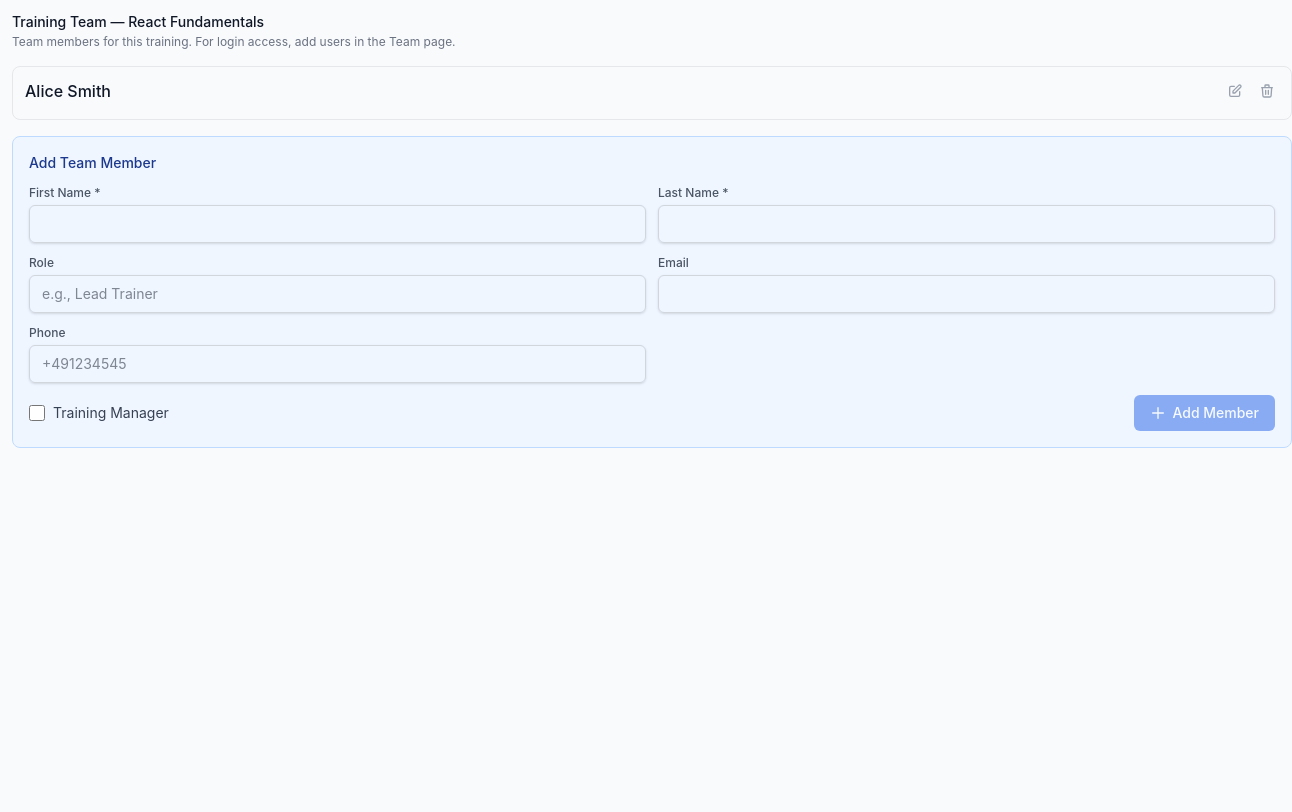
TrainingTeamTab › edit team member › closes edit form when Cancel is clicked
The image size is (1292, 812).
Click the button titled "Edit".
click(1235, 91)  # box [1223,79,1247,103]
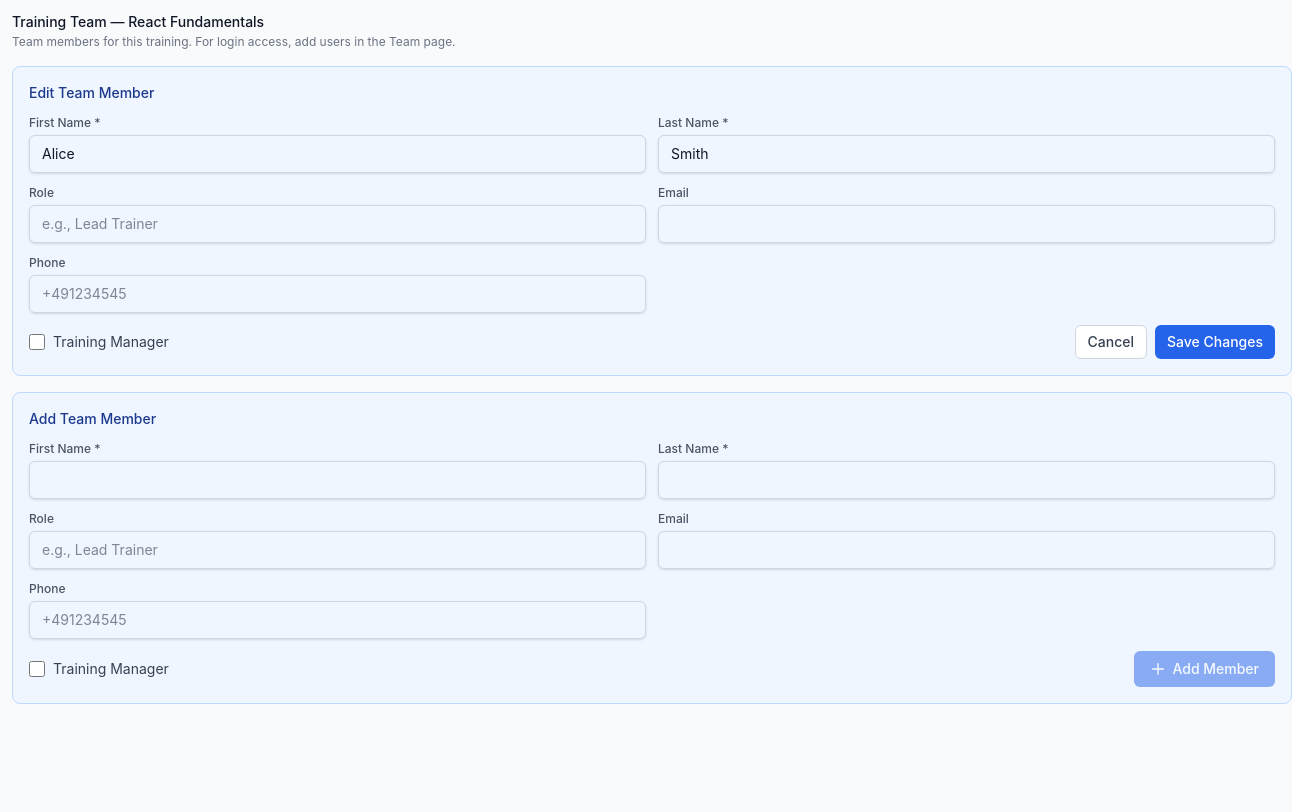
Now the heading "Edit Team Member" is shown, box [29,84,154,101]
Click the button "Cancel".
click(1111, 342)  # box [1074,325,1147,359]
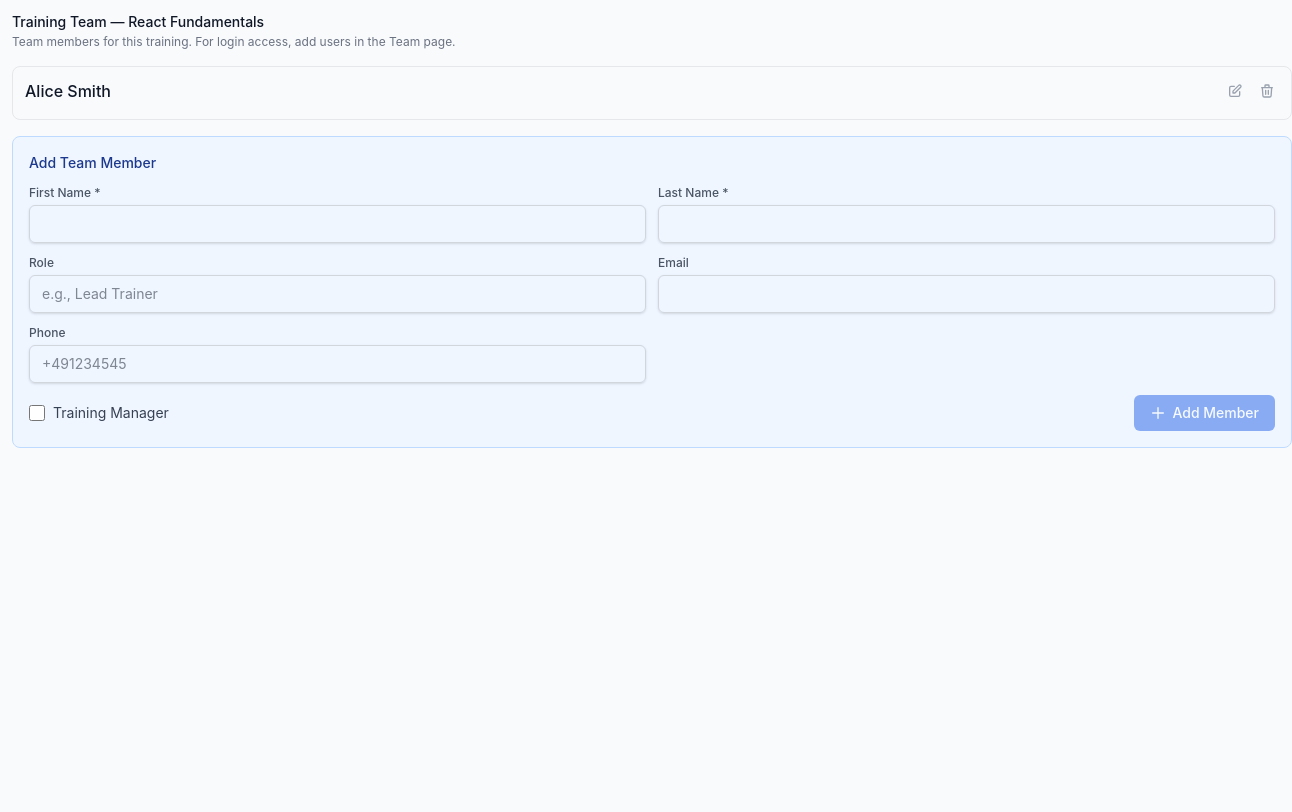
Now the heading "Edit Team Member" is gone
